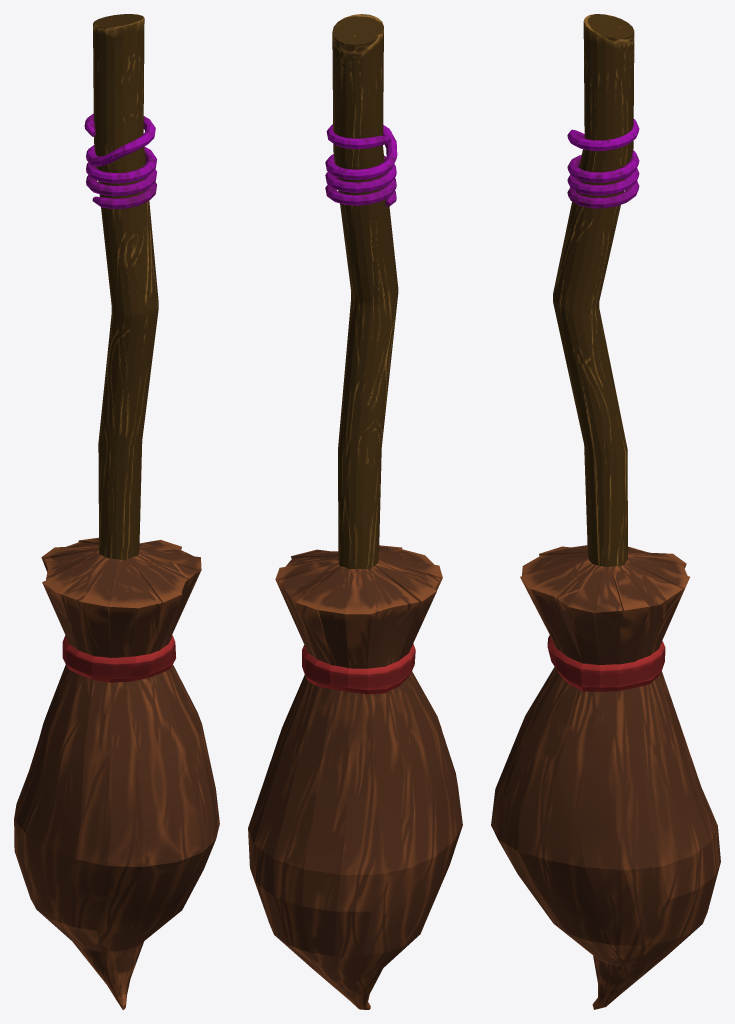
File: Low-poly 3D model of Stylized WitchBroom 2.fbx
The picture shows the model from 3 angles, left to right: view 1: azimuth 30°, elevation 25°; view 2: azimuth 150°, elevation 25°; view 3: azimuth 270°, elevation 25°; orthographic projection.
Visible parts, largest first — view 1: 2broomstick_low; view 2: 2broomstick_low; view 3: 2broomstick_low.
Boxes of the visible parts, x1=… form: 2broomstick_low: x1=14, y1=14, x2=219, y2=1009; 2broomstick_low: x1=248, y1=14, x2=462, y2=1009; 2broomstick_low: x1=491, y1=14, x2=720, y2=1009.
Size of the model in its own units: 69.1 by 370 by 77.8.
